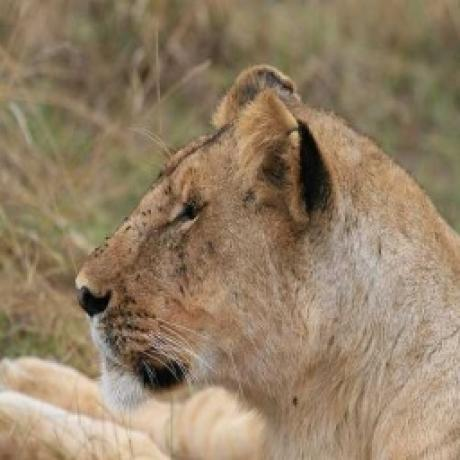Lion: (0, 63, 460, 460)
